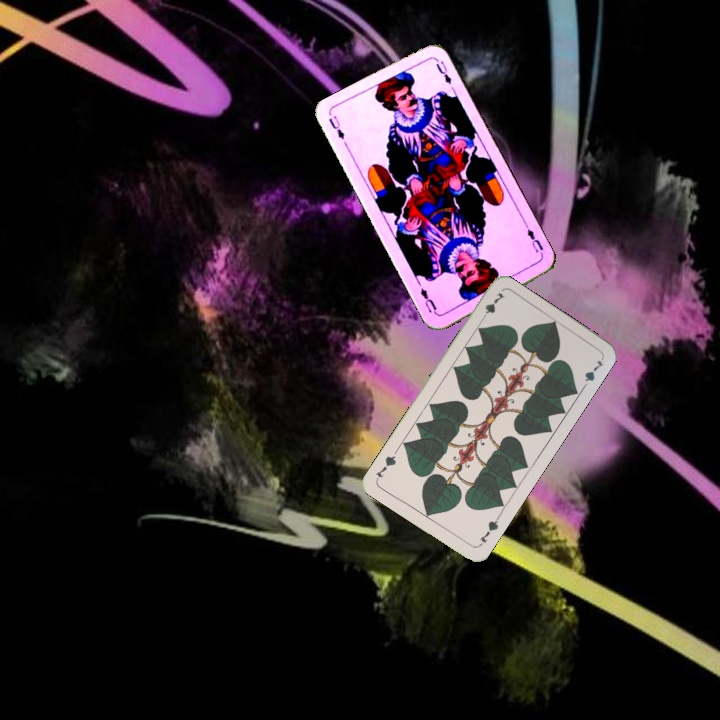EU: (522, 222, 546, 260), (325, 111, 347, 142)
G7: (476, 288, 507, 324), (475, 512, 502, 549)
